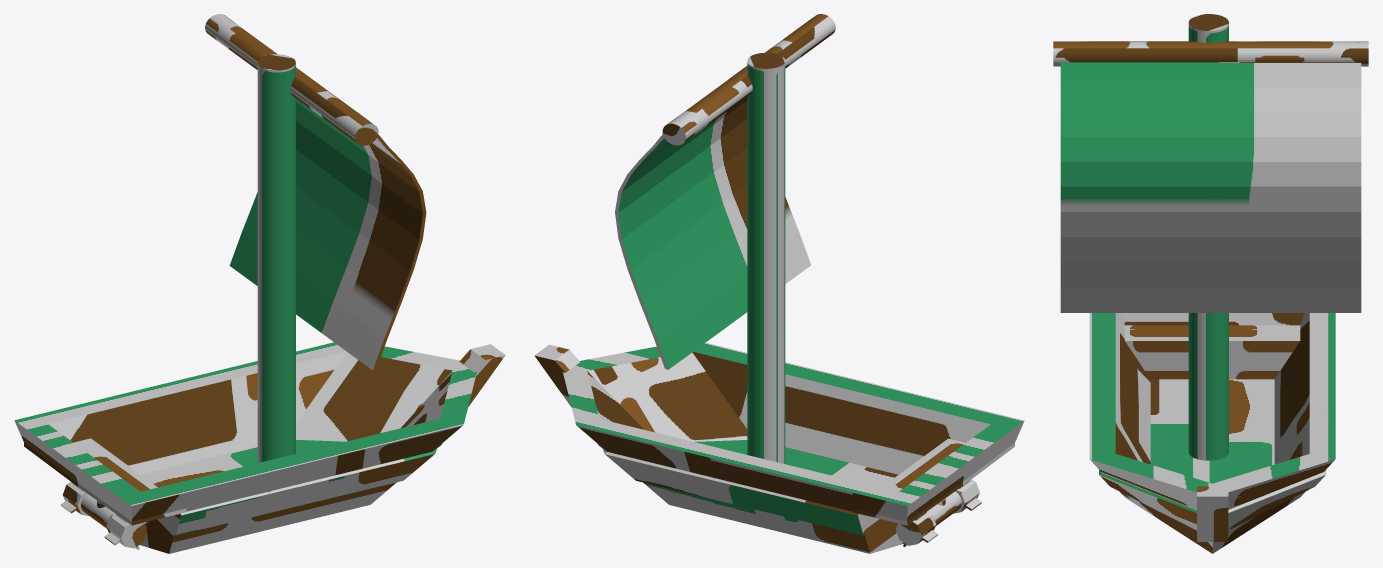
File: OldShip 1.fbx
The picture shows the model from 3 angles, left to right: view 1: azimuth 30°, elevation 25°; view 2: azimuth 150°, elevation 25°; view 3: azimuth 270°, elevation 25°; orthographic projection. The views are drawn at different scales.
Parts seen in each view (by area): view 1: Hull, Boom, Propeller; view 2: Hull, Boom, Propeller; view 3: Boom, Hull.
Part boxes in pixels (bbox=[...]): Hull: bbox=[14, 54, 505, 553]; Boom: bbox=[205, 14, 426, 370]; Propeller: bbox=[60, 482, 149, 549]; Hull: bbox=[534, 52, 1024, 553]; Boom: bbox=[615, 14, 835, 369]; Propeller: bbox=[895, 479, 981, 547]; Boom: bbox=[1053, 41, 1368, 312]; Hull: bbox=[1089, 14, 1335, 553].
Size of the model in its own units: 2.79 by 4.55 by 4.56.
